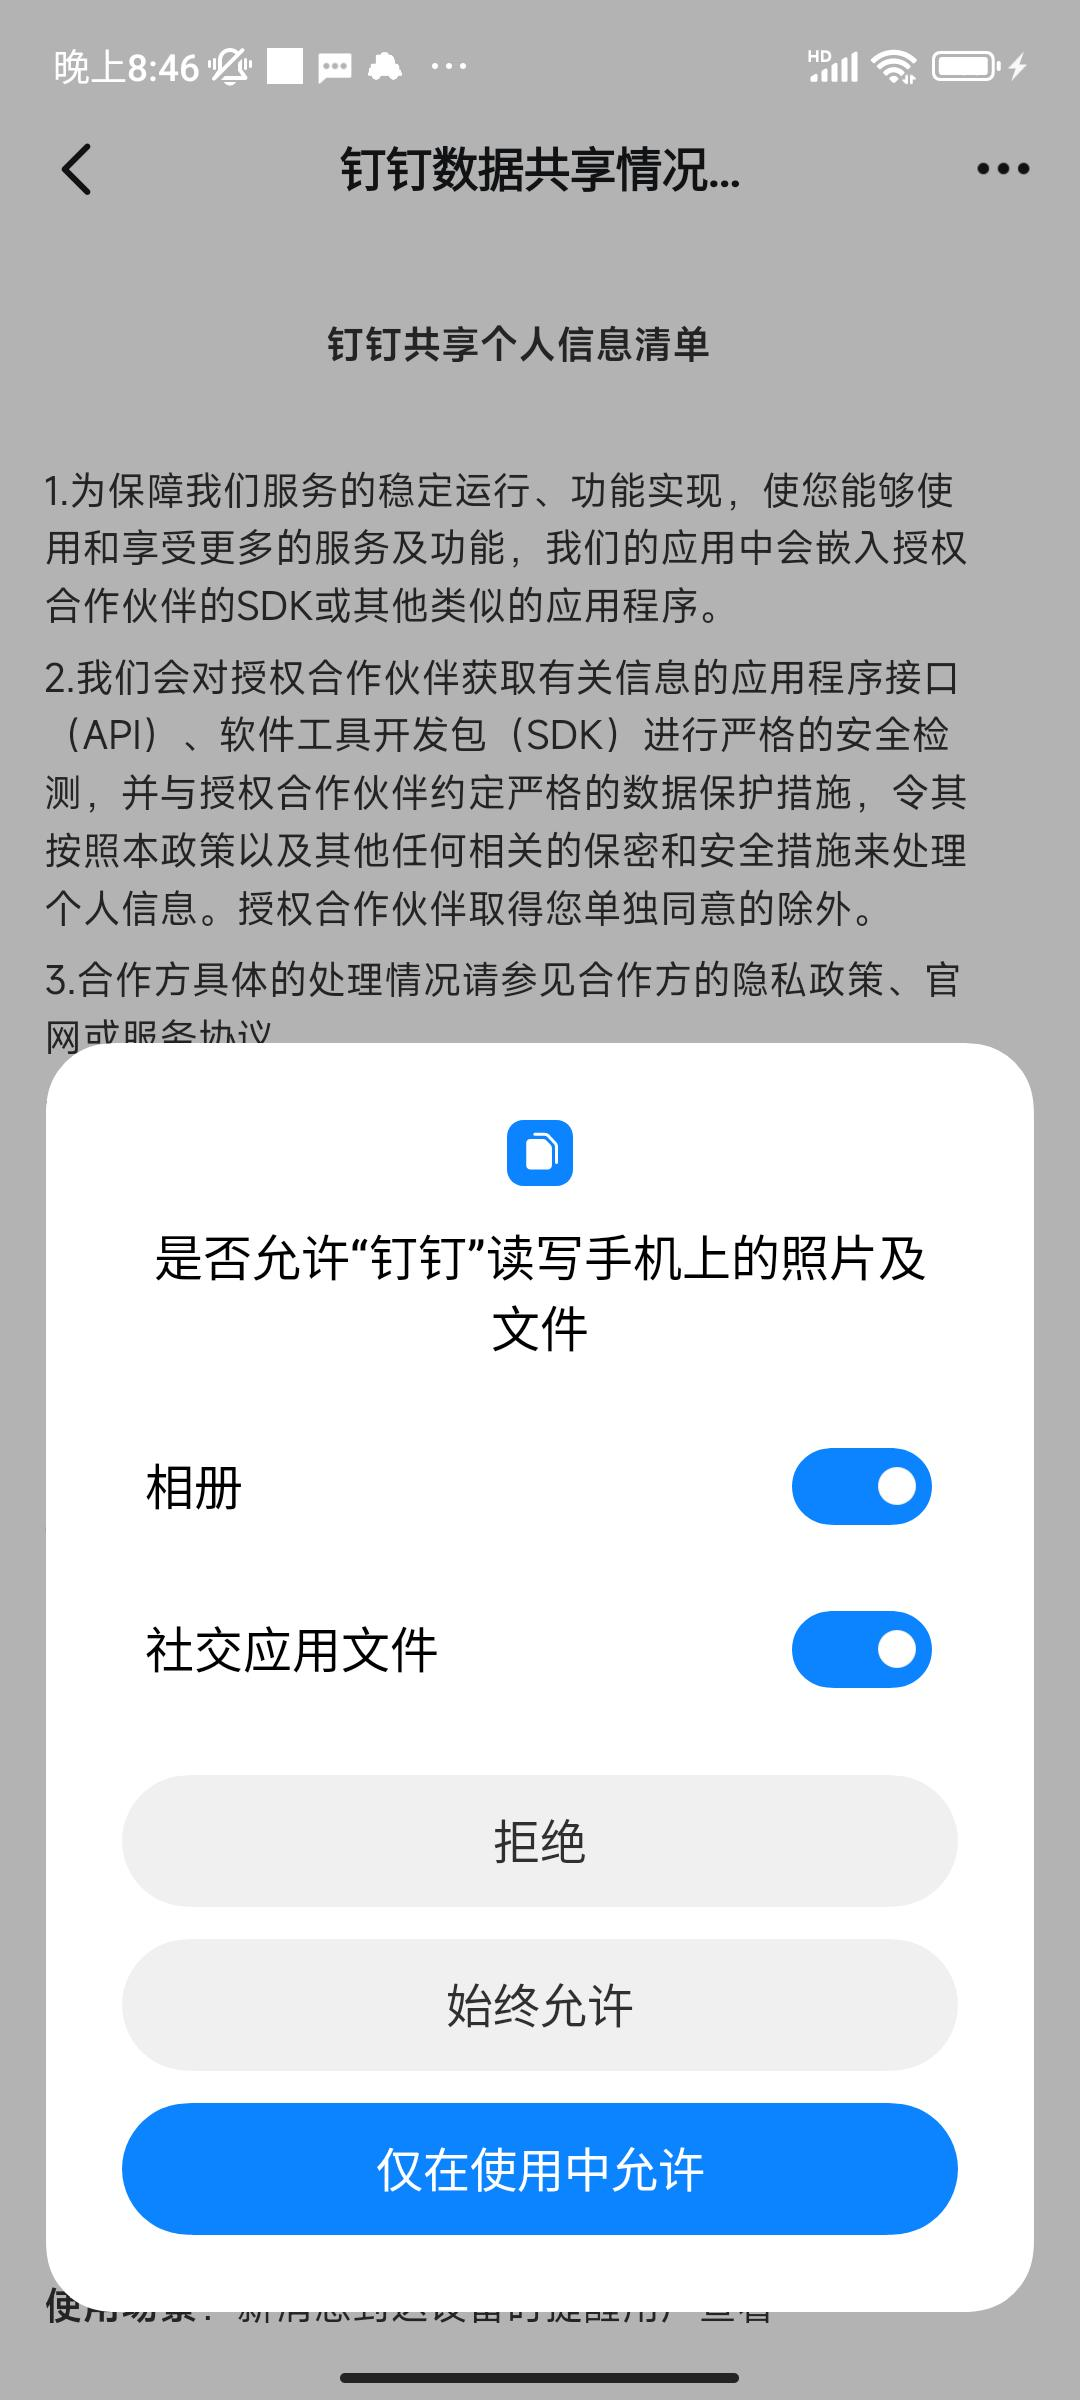ui_group: (49, 1045, 1036, 2317)
